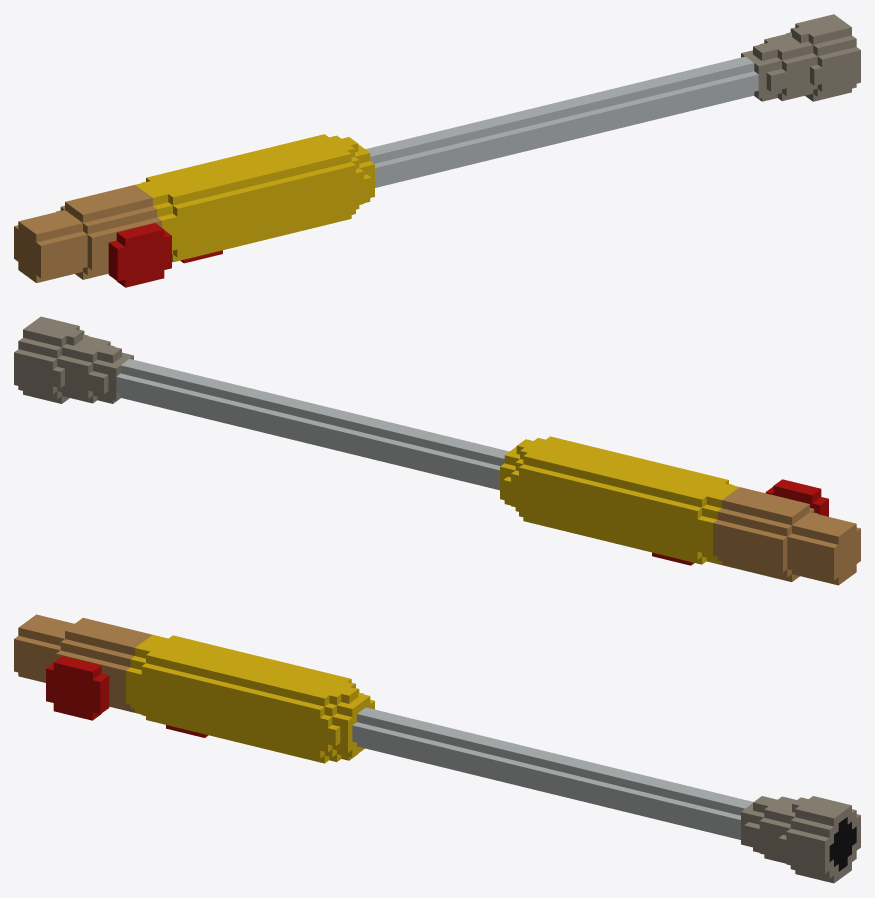
Rendered from propane_torch.glb.
3 views of the same model, one above another, from view 1: azimuth 30°, elevation 25°; view 2: azimuth 150°, elevation 25°; view 3: azimuth 330°, elevation 25° (orthographic).
Visible parts, largest first — view 1: propane_torch:compound; view 2: propane_torch:compound; view 3: propane_torch:compound.
Part boxes in pixels (left/top/right/bottom): propane_torch:compound: left=14, top=14, right=860, bottom=287; propane_torch:compound: left=14, top=316, right=860, bottom=585; propane_torch:compound: left=14, top=614, right=860, bottom=883.
Size of the model in its own units: 0.42 by 0.036 by 0.048.
